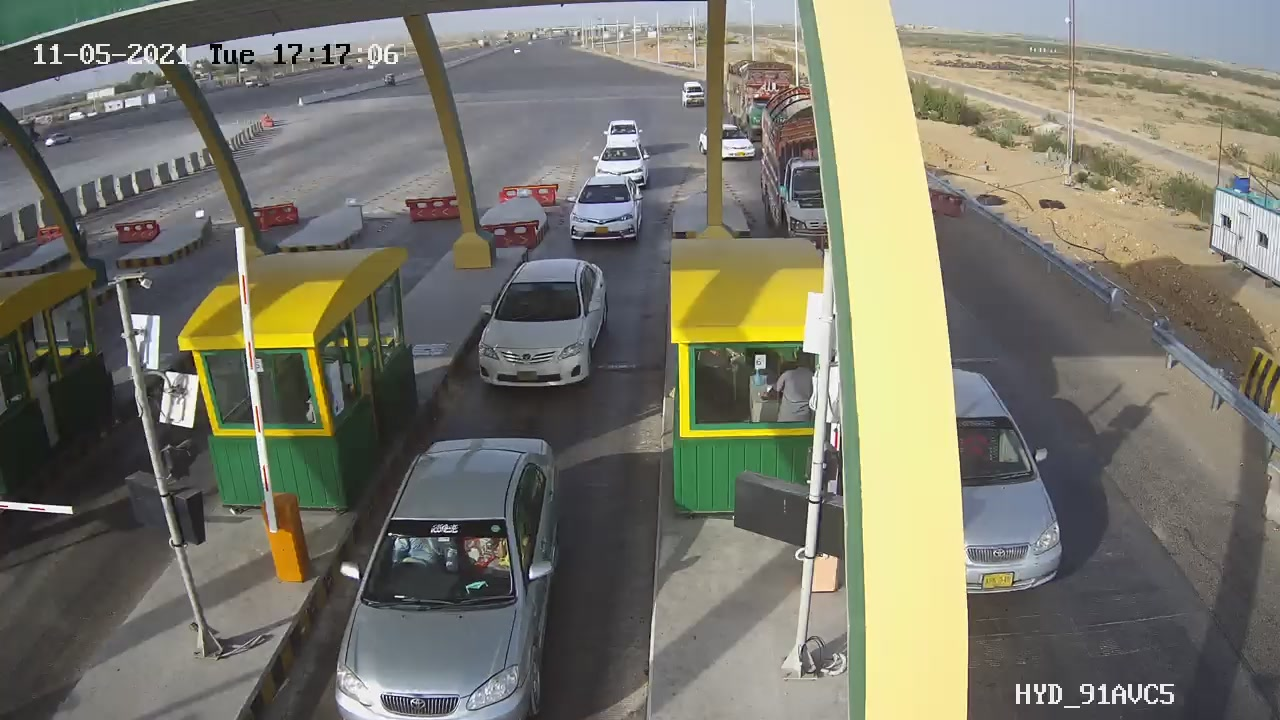F1: (466, 247, 620, 401), (559, 170, 655, 257)
